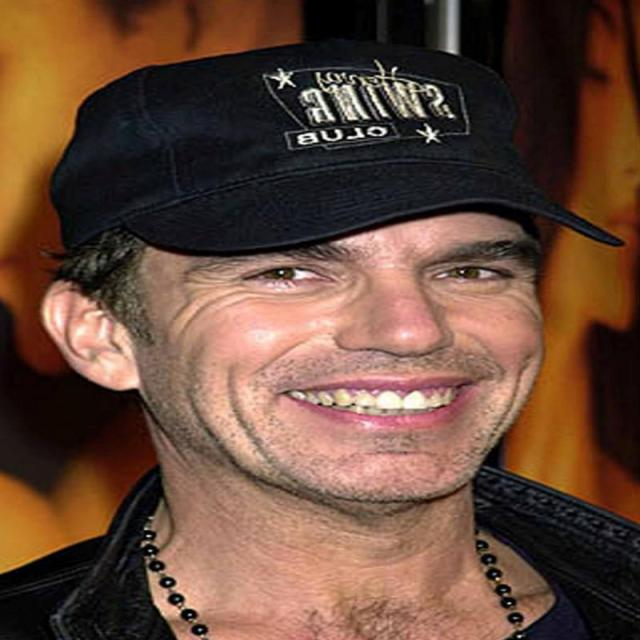no-earmuff: (22, 268, 182, 409)
